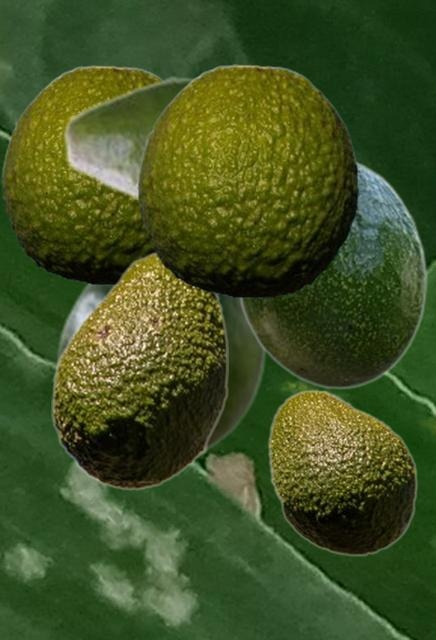avocado: (137, 64, 357, 297), (237, 159, 426, 389), (51, 250, 227, 490), (55, 284, 266, 461), (1, 65, 162, 284), (267, 389, 417, 556), (61, 74, 198, 204)
